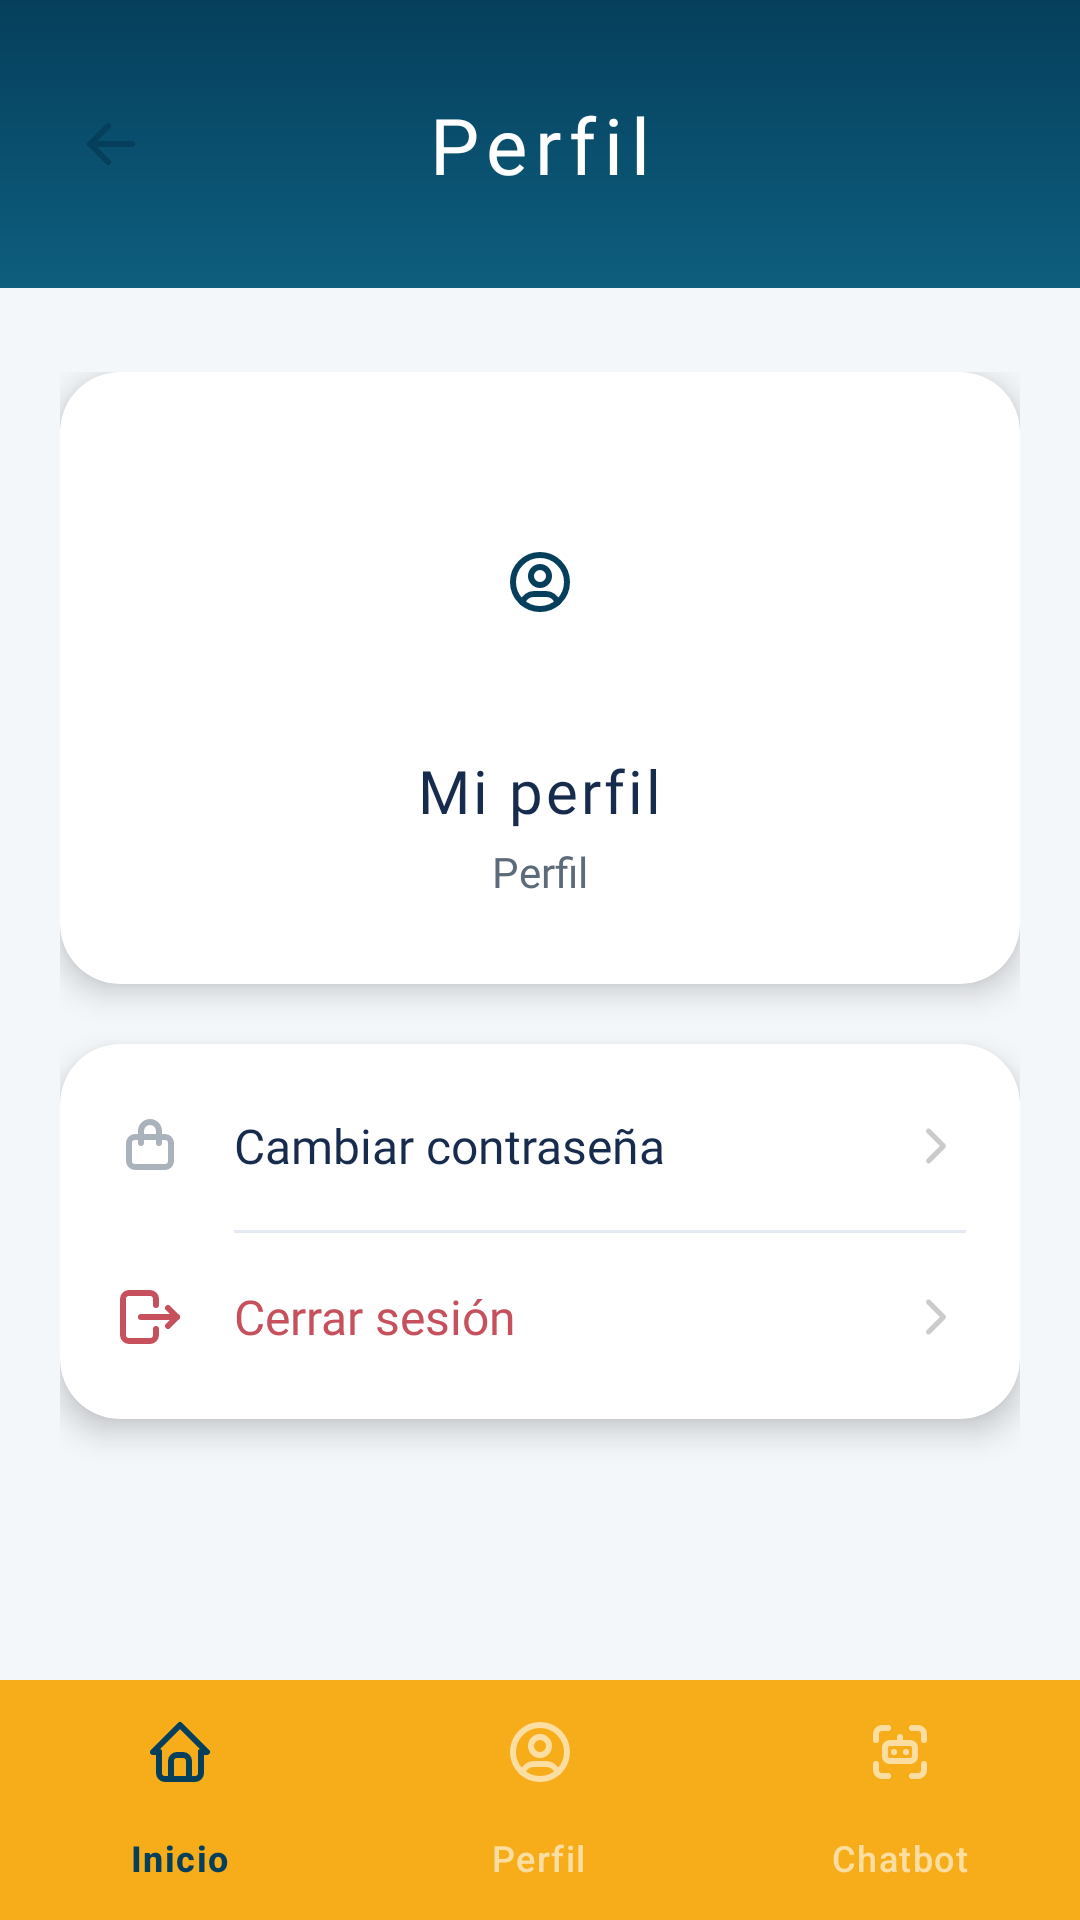

Screen size 1080 x 1920. Icon name, then its box in pixels as (x1, y1, x2, y2):
tabler chevron right: (926, 1128, 946, 1164), (926, 1299, 946, 1335)
tabler lock: (126, 1119, 174, 1170)
